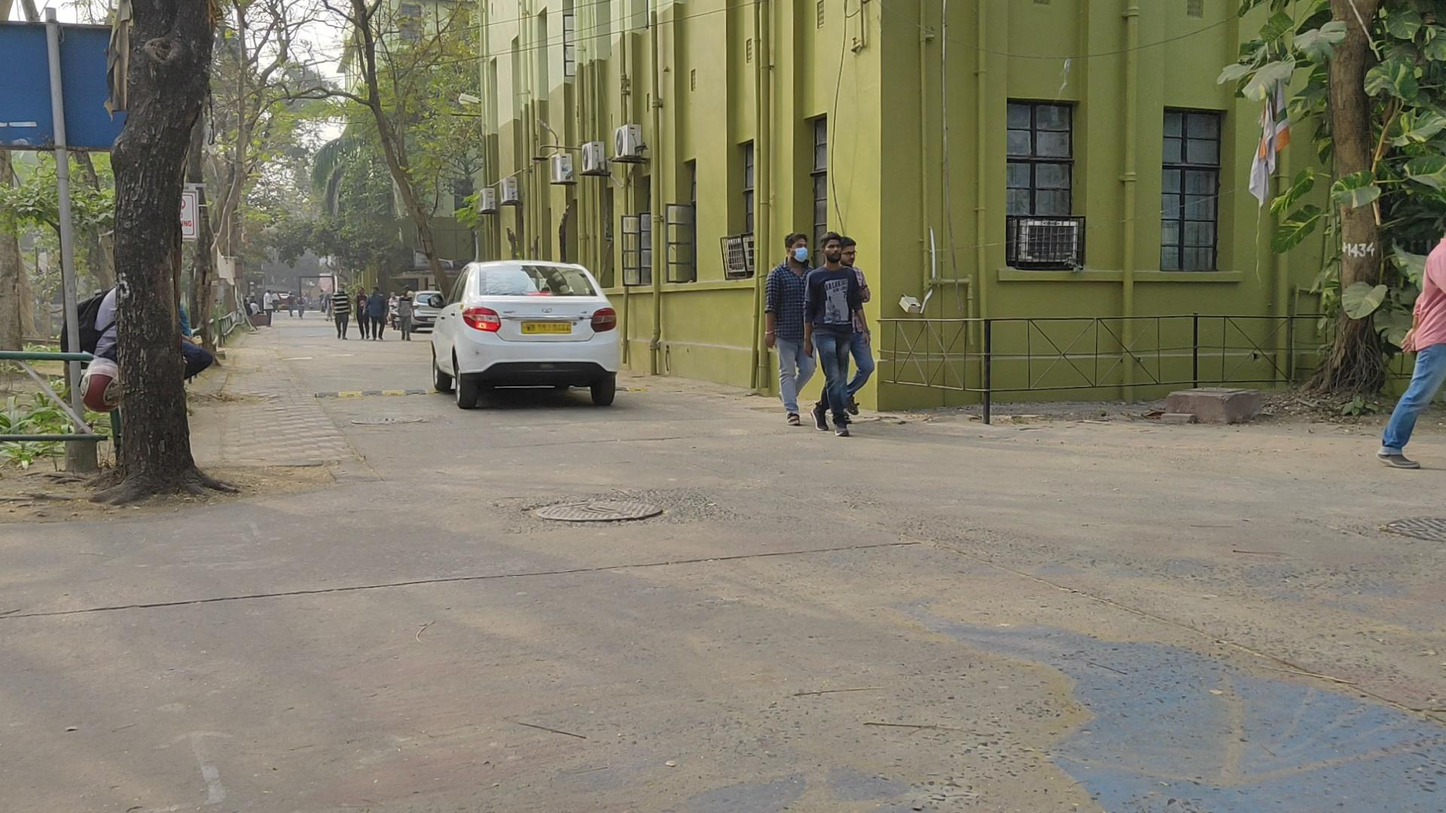car: (431, 259, 621, 410)
